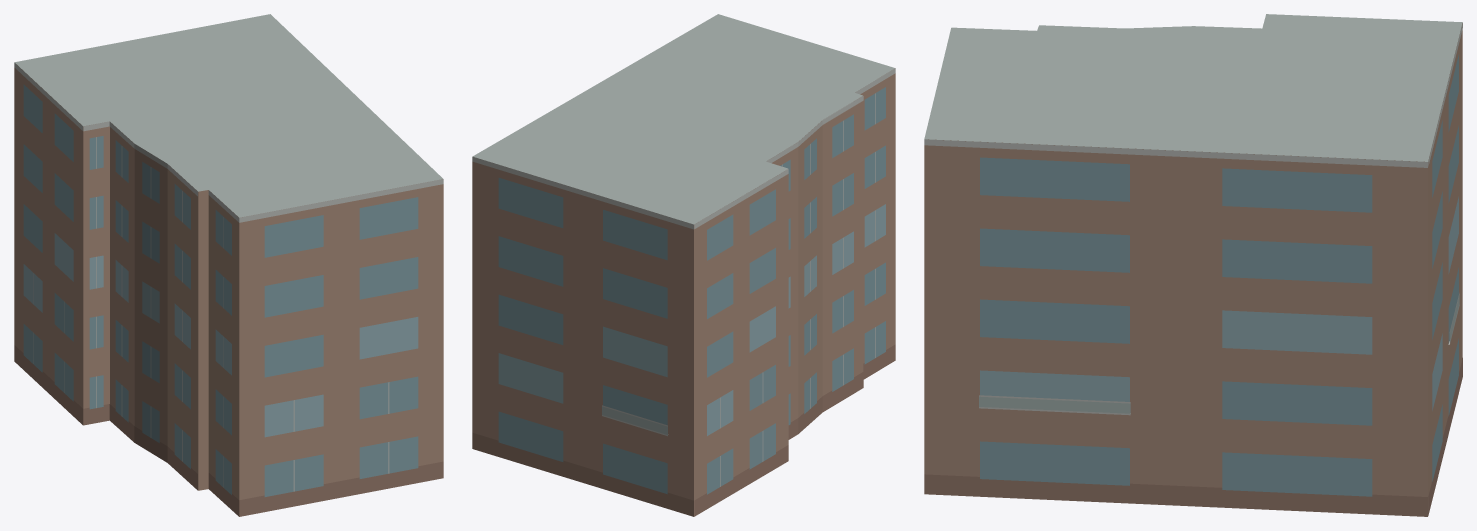
Rendered from survey-upis-32957567.glb.
The picture shows the model from 3 angles, left to right: view 1: azimuth 30°, elevation 25°; view 2: azimuth 150°, elevation 25°; view 3: azimuth 270°, elevation 25°; orthographic projection. The views are drawn at different scales.
Visible parts, largest first — view 1: survey-upis-32957567.tmp; view 2: survey-upis-32957567.tmp; view 3: survey-upis-32957567.tmp.
Part boxes in pixels (x1=…): survey-upis-32957567.tmp: x1=14, y1=14, x2=443, y2=516; survey-upis-32957567.tmp: x1=472, y1=14, x2=895, y2=516; survey-upis-32957567.tmp: x1=924, y1=14, x2=1462, y2=516.
Bounding box in the file's own units: 12.74 × 14.25 × 19.6.
